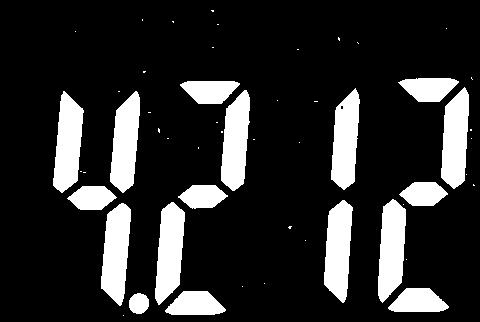1: (321, 86, 361, 305)
2: (150, 79, 252, 317), (376, 75, 471, 315)
4: (45, 86, 141, 307)
dot: (126, 290, 152, 316)
